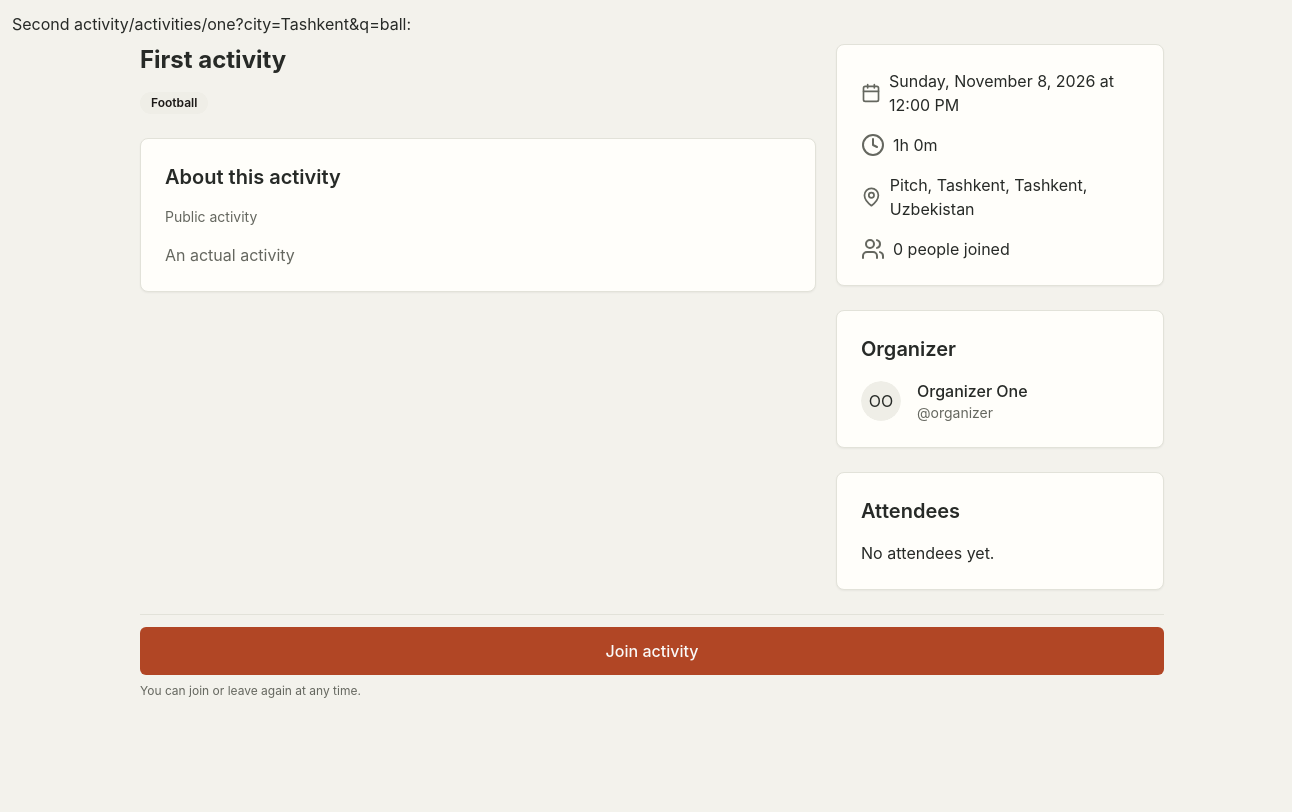
Test: joins then leaves and displays authoritative attendee counts after refetch
Click the button "Join activity". click: (652, 651)
box: x1=140 y1=627 x2=1164 y2=675
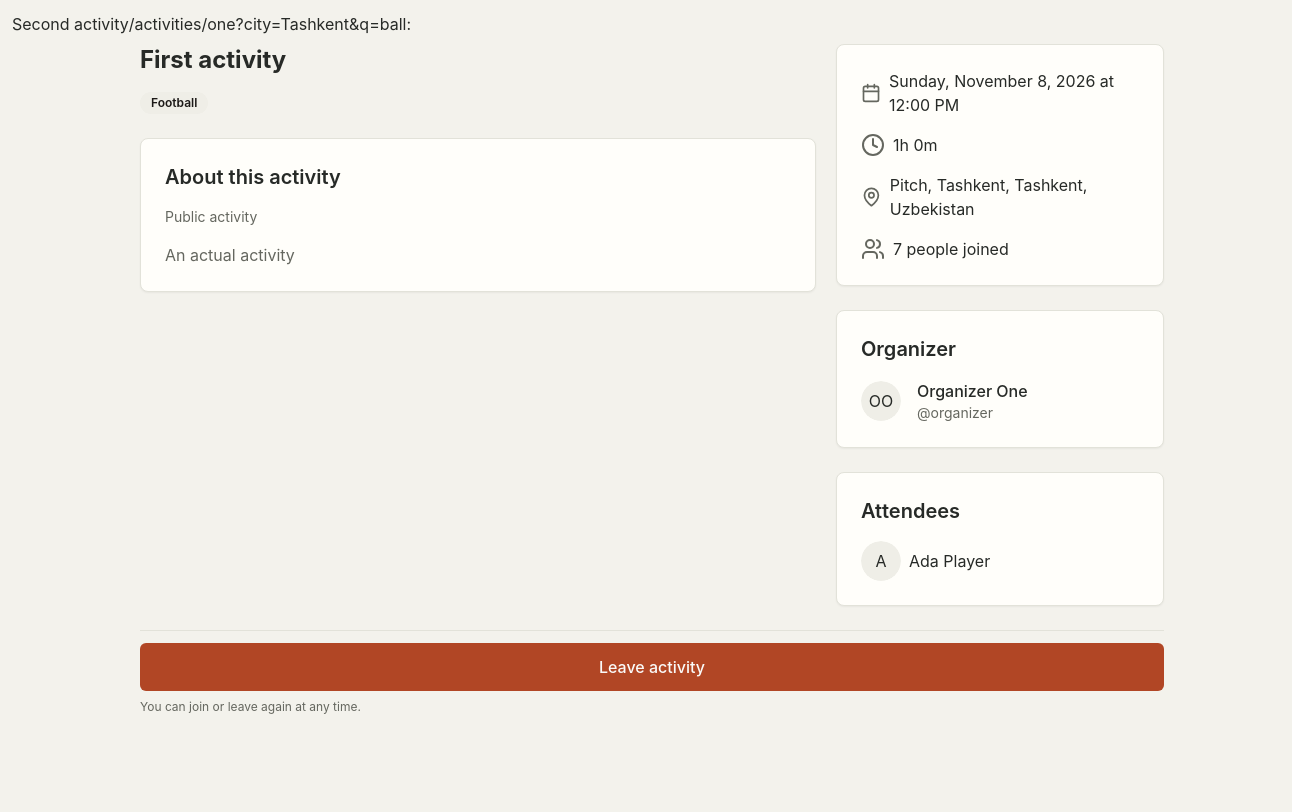
Expected: the text "7 people joined" is shown, x1=893 y1=237 x2=1009 y2=261
Expected: the text "Ada Player" is shown, x1=909 y1=549 x2=990 y2=573
Click the button "Leave activity". click: (652, 667)
box: x1=140 y1=643 x2=1164 y2=691
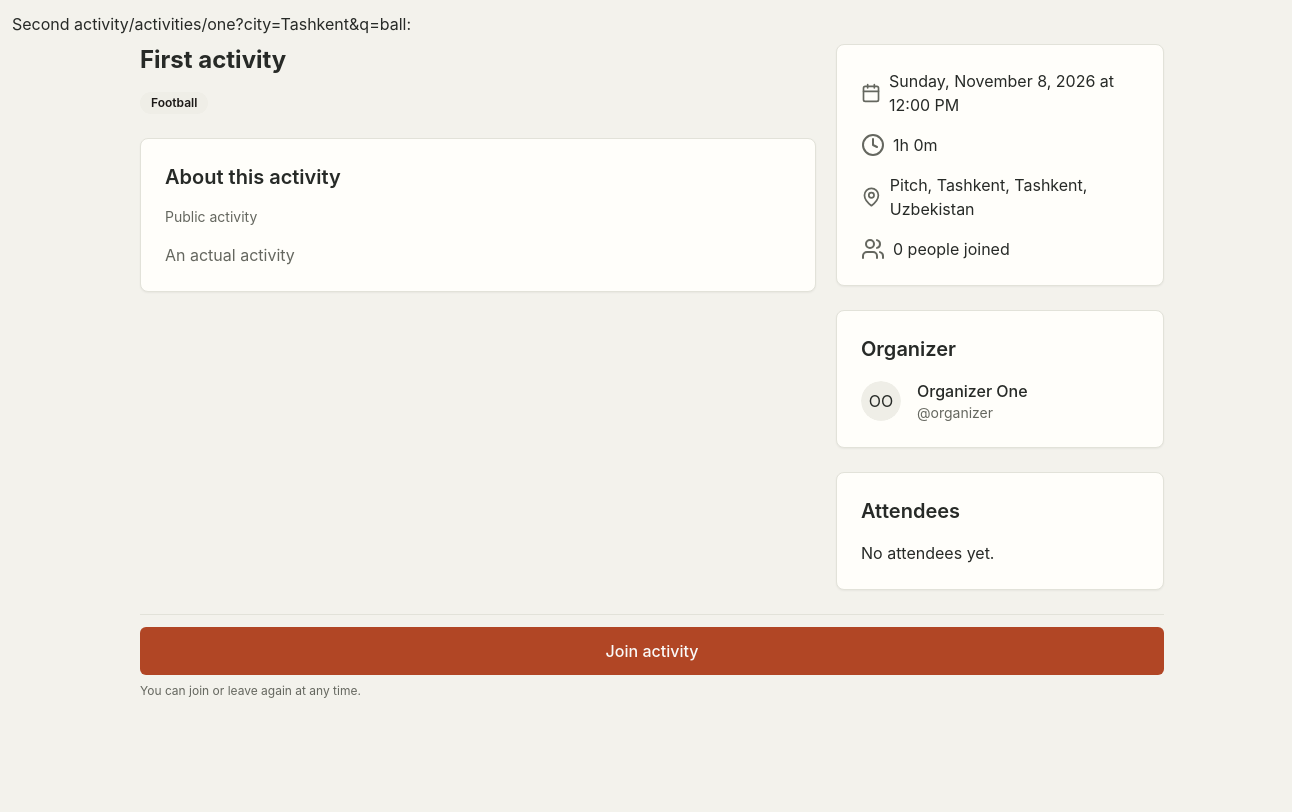
Expected: the text "0 people joined" is shown, x1=893 y1=237 x2=1010 y2=261
Expected: the text "Ada Player" is gone
